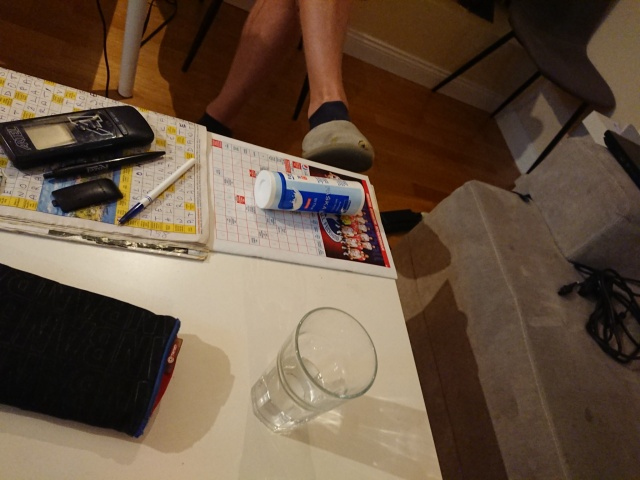Solana Pag Fine Sea Salt 250g: (251, 168, 367, 218)
